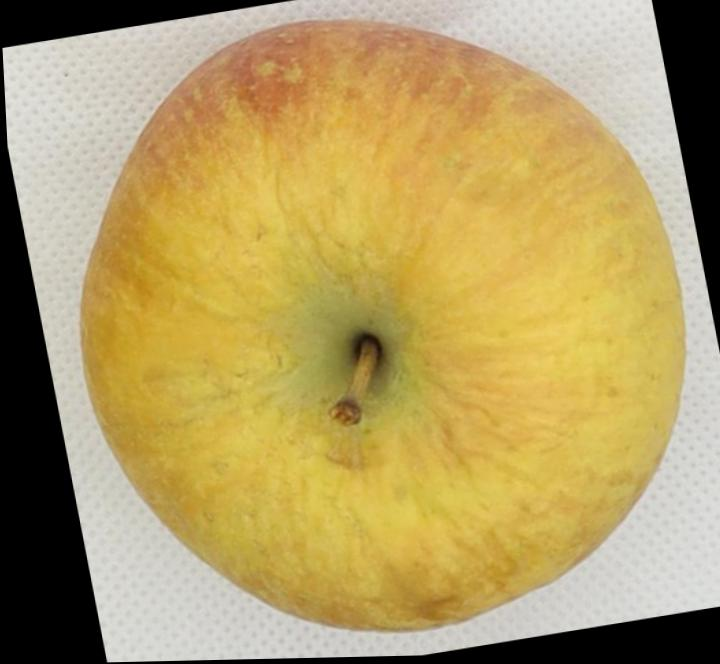apple: (80, 22, 683, 631)
